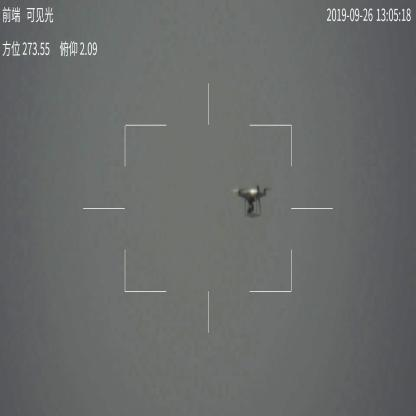uav: (234, 182, 270, 217)
